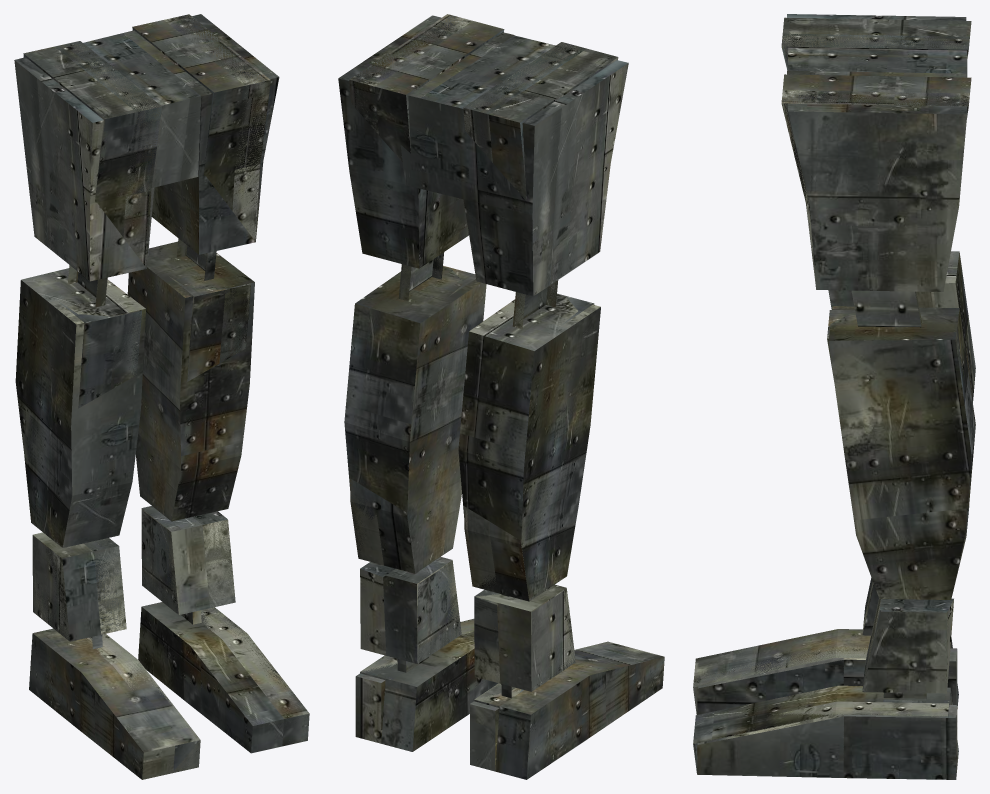
File: legsGen.fbx
3 renders of one model, left to right at view 1: azimuth 30°, elevation 25°; view 2: azimuth 150°, elevation 25°; view 3: azimuth 270°, elevation 25°, orthographic. The views are drawn at different scales.
Parts seen in each view (by area): view 1: GenLegs; view 2: GenLegs; view 3: GenLegs.
Boxes of the visible parts, <box> form: GenLegs: <box>14,14,309,779</box>; GenLegs: <box>338,14,664,779</box>; GenLegs: <box>693,14,975,779</box>.
Bounding box in the file's own units: 129 × 405 × 154.
